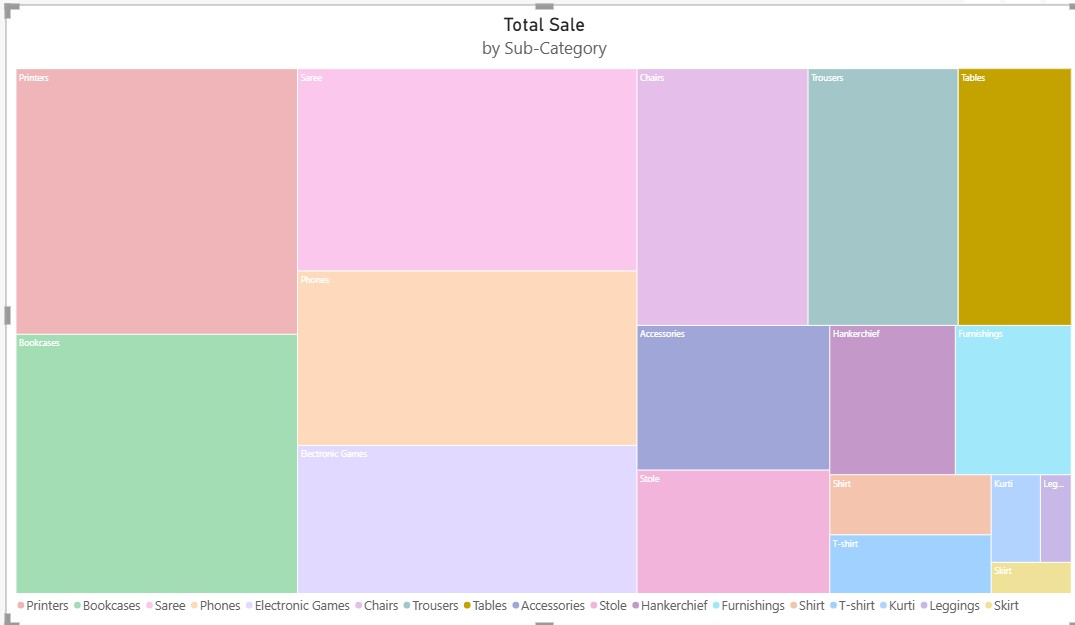

What the dashboard file says about the page in this screenshot:
{"tool":"powerbi","page":{"name":"Tree Map","canvas":[1920,1080],"ordinal":7},"visuals":[{"type":"treemap","fields":{"Group":["Order Details (3).Sub-Category"],"Values":["Order Details (3).Total Sale"]},"box":[84,54.5,1712.6,990.3],"z":0},{"type":"tableEx","fields":{"Values":["Order Details (3).Total Sale"]},"box":[929.8,484.7,813.5,96.4],"z":1}]}

Visuals, with their boxes on the page's 1920x1080 design canvas (x1, y1, x2, y2). These are canvas units, not pixel positions in the 1075x625 screenshot, which may show the page scaled, cropped or inside an application window:
treemap - Order Details (3).Sub-Category x Order Details (3).Total Sale: region(84, 54, 1797, 1045)
tableEx - Order Details (3).Total Sale: region(930, 485, 1743, 581)
